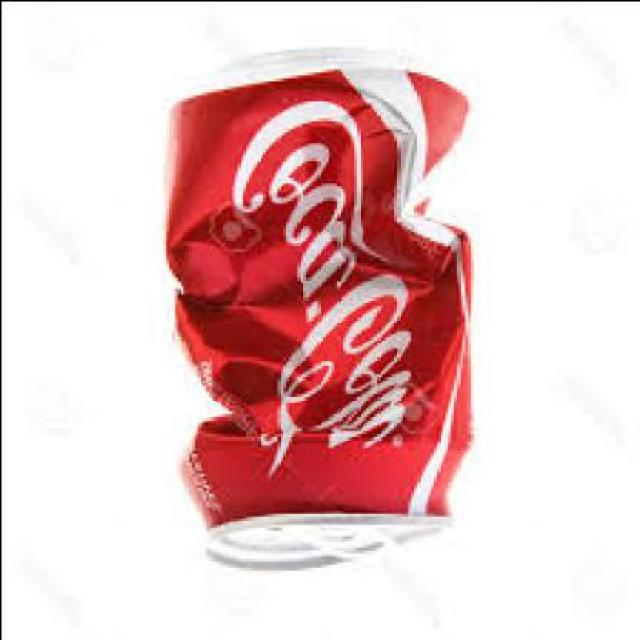METAL: (158, 59, 472, 572)
